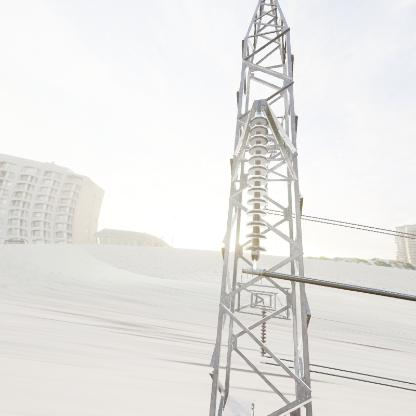insulator: (244, 112, 271, 263), (258, 308, 270, 357)
